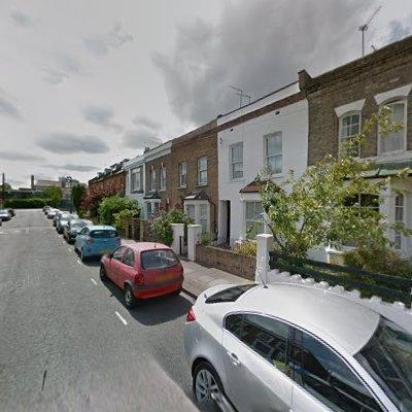stationary-car-onstreet: (184, 278, 410, 412), (98, 239, 186, 309), (75, 223, 121, 262), (64, 218, 94, 242), (57, 212, 77, 232), (52, 210, 69, 228), (47, 208, 61, 220), (1, 207, 12, 221), (6, 208, 16, 216), (43, 206, 51, 215), (0, 217, 2, 226)
